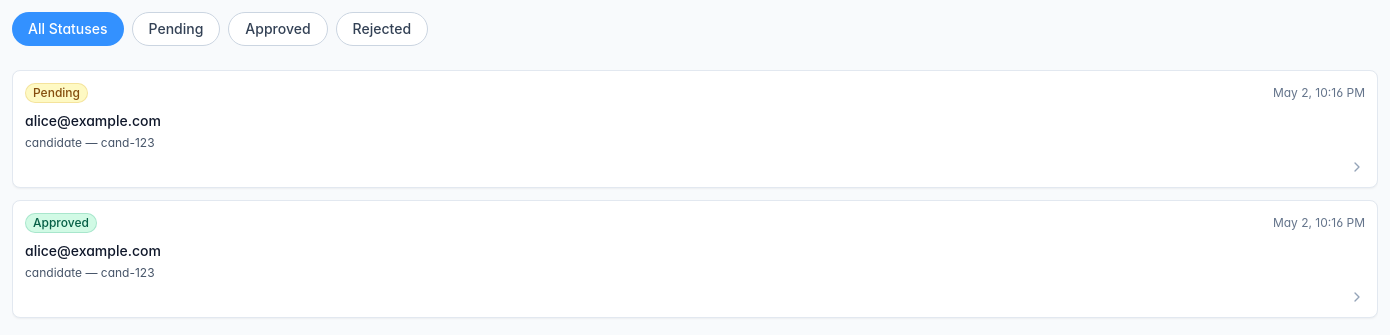
Test: ApprovalCardList › shows all approvals again when All chip is clicked
The width and height of the screenshot is (1390, 335).
Click the button "Pending": {"x": 176, "y": 29} [132,12,220,46]
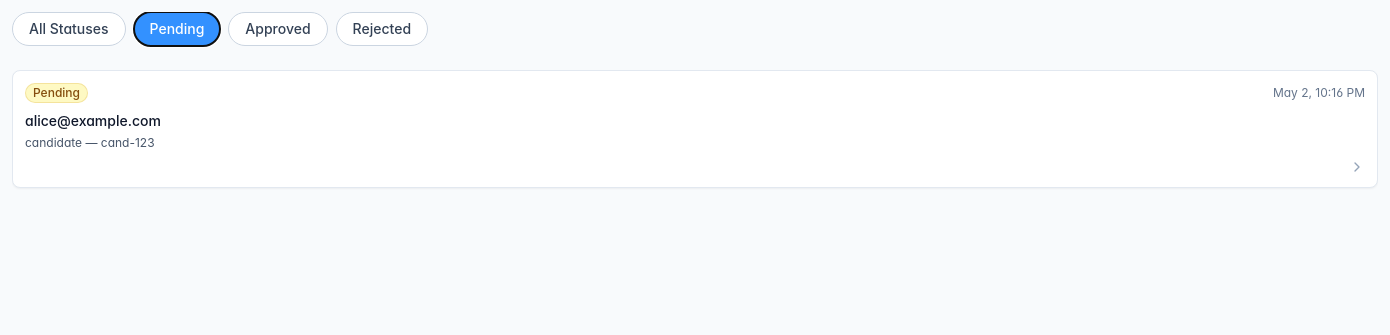
Expected: the number of buttons with test id "approval-card" is 1, [12,70,1378,188]
Click the button "All Statuses": {"x": 69, "y": 29} [12,12,126,46]
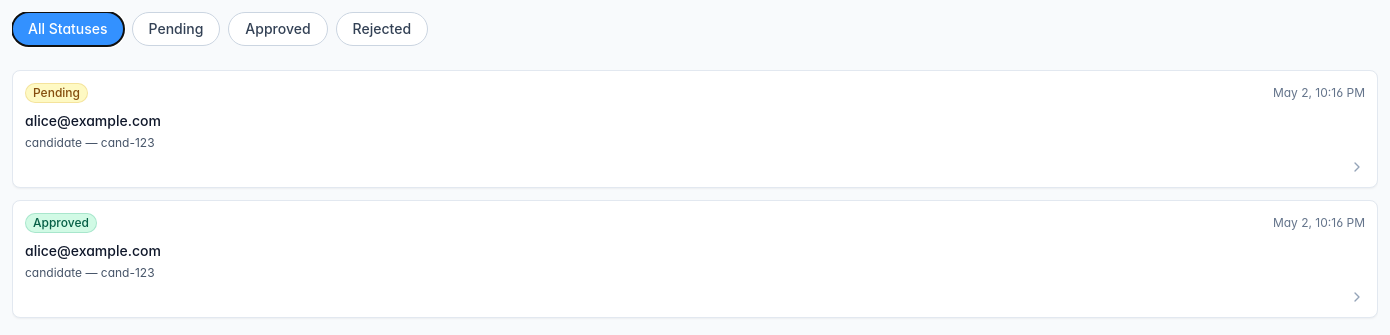
Expected: the number of buttons with test id "approval-card" is 2, [12,70,1378,188]; [12,200,1378,318]
